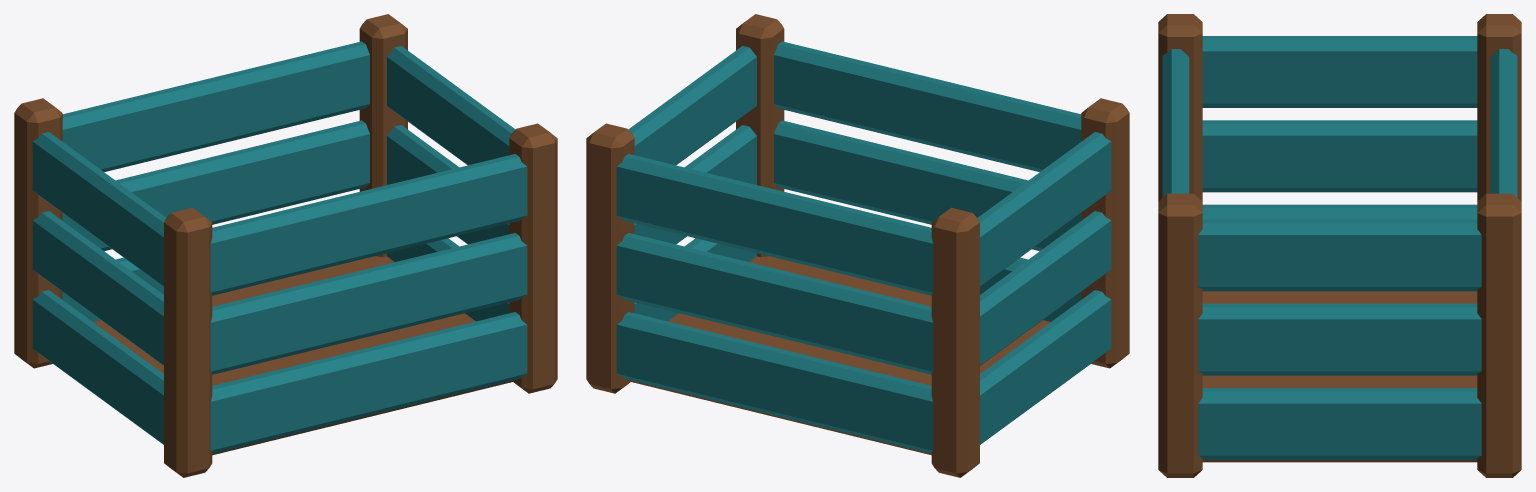
The model's file is storage_crate.glb.
The picture shows the model from 3 angles, left to right: view 1: azimuth 30°, elevation 25°; view 2: azimuth 150°, elevation 25°; view 3: azimuth 270°, elevation 25°; orthographic projection. The views are drawn at different scales.
Visible parts, largest first — view 1: storage_crate; view 2: storage_crate; view 3: storage_crate.
Boxes of the visible parts, x1,y1,x2,y2 form: storage_crate: (14,14,557,477); storage_crate: (586,14,1129,477); storage_crate: (1158,14,1521,477).
Bounding box in the file's own units: 0.53 × 0.34 × 0.41.
